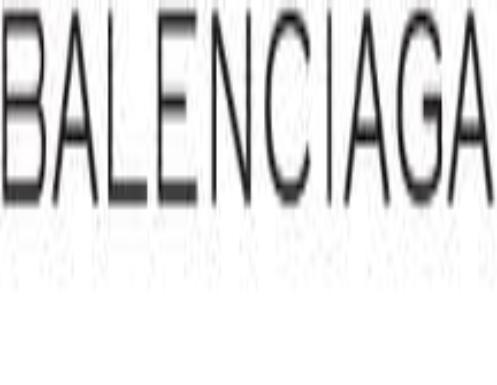BALENCIAGA: (2, 12, 492, 216)
